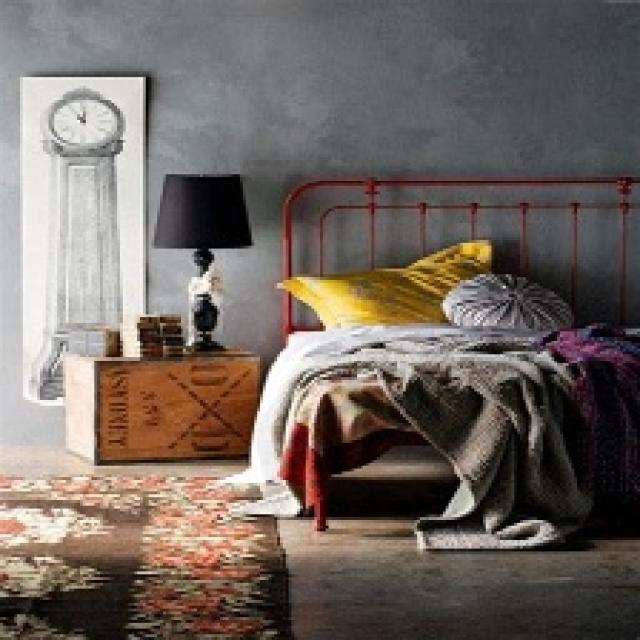Bed: (243, 174, 637, 537)
